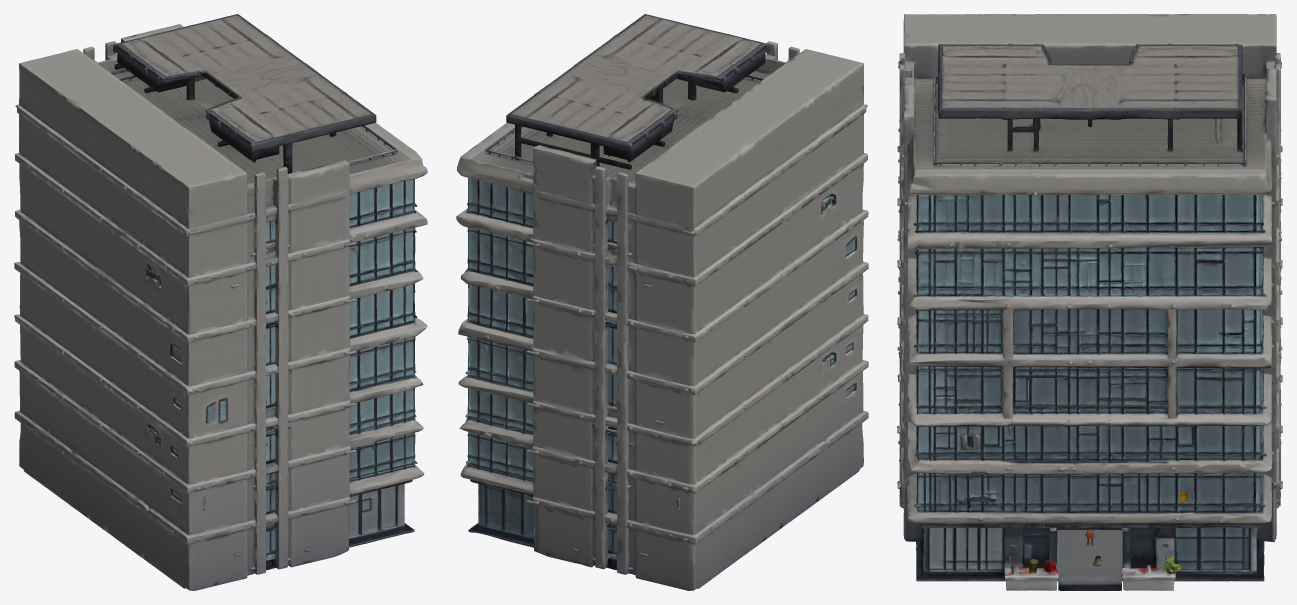
Rendered from modern-city-building-four-storey-glass-a-cmuealbf.glb.
3 views of the same model, side by side, from view 1: azimuth 30°, elevation 25°; view 2: azimuth 150°, elevation 25°; view 3: azimuth 270°, elevation 25° (orthographic). The views are drawn at different scales.
Parts seen in each view (by area): view 1: tripo_node_967b64c0-04b1-4a16-97b8-457235b43733; view 2: tripo_node_967b64c0-04b1-4a16-97b8-457235b43733; view 3: tripo_node_967b64c0-04b1-4a16-97b8-457235b43733.
Part boxes in pixels (box(x1,y1,x2,y2)): tripo_node_967b64c0-04b1-4a16-97b8-457235b43733: box(14, 14, 427, 590); tripo_node_967b64c0-04b1-4a16-97b8-457235b43733: box(456, 14, 868, 590); tripo_node_967b64c0-04b1-4a16-97b8-457235b43733: box(897, 14, 1282, 590).
Size of the model in its own units: 0.6397 by 1 by 0.7652.
1 material, 1 textured.
